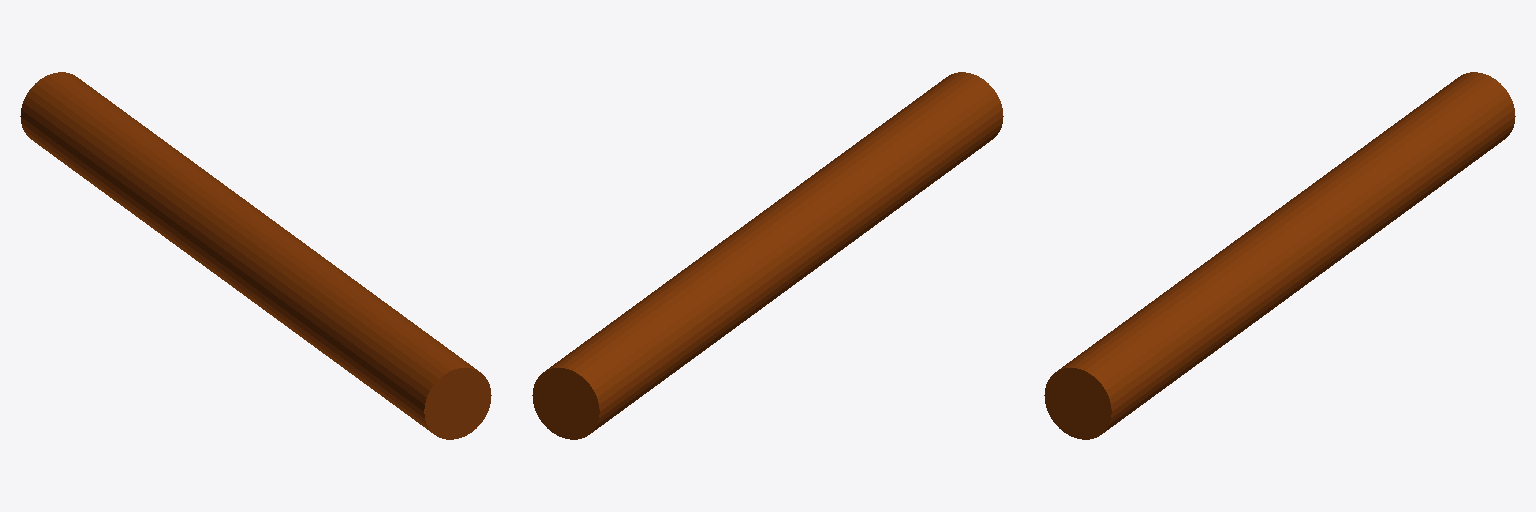
robot.urdf — cylinder:
<?xml version="1.0" ?>
<!-- =================================================================================== -->
<!-- |    This document was autogenerated by xacro from cylinder.xacro                 | -->
<!-- |    EDITING THIS FILE BY HAND IS NOT RECOMMENDED                                 | -->
<!-- =================================================================================== -->
<robot name="cylinder">
  <link name="world"/>
  <link name="base">
    <visual>
      <origin rpy="1.57079633 0 0" xyz="0 0 0"/>
      <geometry>
        <cylinder length="7.07106781185" radius="0.34"/>
      </geometry>
      <material name="cylinder_material">
        <color rgba="0.545 0.271 0.075 1.0"/>
        <texture filename="../textures/tree_bark.jpg"/>
      </material>
    </visual>
    <collision>
      <origin rpy="1.57079633 0 0" xyz="0 0 0"/>
      <geometry>
        <cylinder length="7.07106781185" radius="0.34"/>
      </geometry>
    </collision>
    <inertial>
      <origin rpy="0 0 0" xyz="0 0 0"/>
      <mass value="1"/>
      <inertia ixx="4.195566666648428" ixy="0.0" ixz="0.0" iyy="4.195566666648428" iyz="0.0" izz="24.999999999890573"/>
    </inertial>
  </link>
  <joint name="base_joint" type="fixed">
    <parent link="world"/>
    <child link="base"/>
    <origin rpy="0 0 0" xyz="0.0 0.0 0.0"/>
  </joint>
</robot>

--- Facts derived from the render (not from the file) ---
The picture shows the robot from 3 angles, left to right: view 1: azimuth 30°, elevation 25°; view 2: azimuth 150°, elevation 25°; view 3: azimuth 330°, elevation 25°; orthographic projection.
Robot: cylinder — 2 links, 1 joints (1 fixed); root link world; default pose: all joints at 0.
Visible links, largest first — view 1: base; view 2: base; view 3: base.
Link boxes in pixels (box(x1,y1,x2,y2)): base: box(20, 72, 491, 439); base: box(532, 72, 1003, 439); base: box(1044, 72, 1515, 439).
Size in the robot's own frame: 0.68 by 7.07 by 0.68 metres.
Geometry: primitives only (box / cylinder / sphere), no mesh files.
